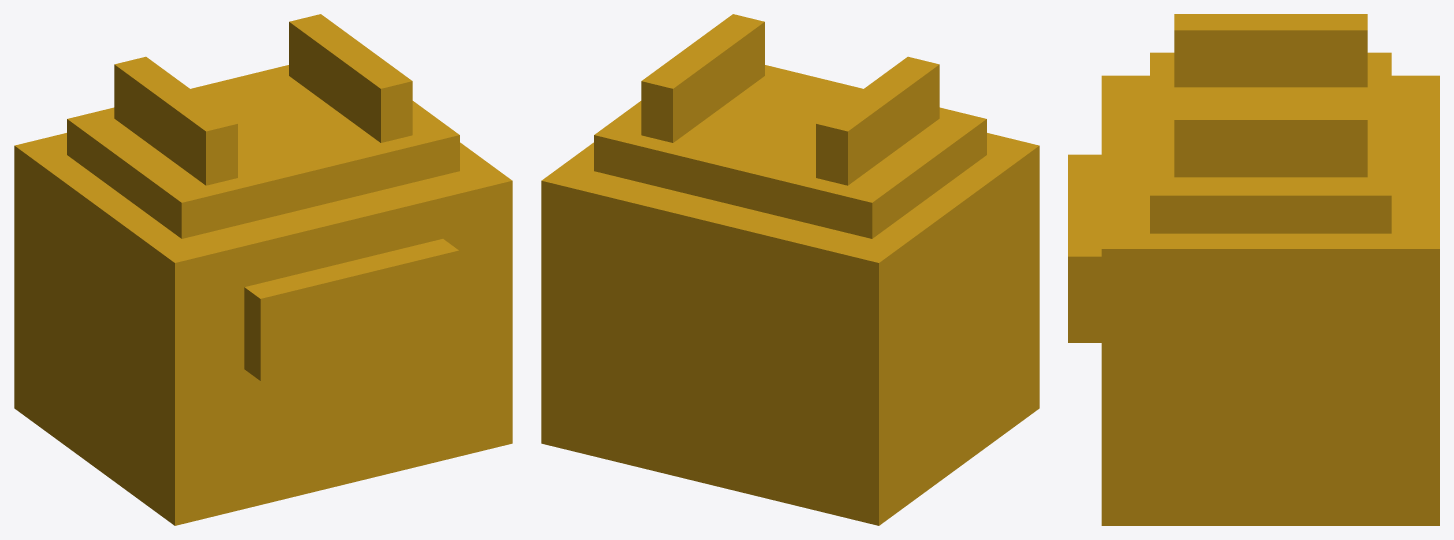
File: fryer.glb
3 renders of one model, left to right at view 1: azimuth 30°, elevation 25°; view 2: azimuth 150°, elevation 25°; view 3: azimuth 270°, elevation 25°, orthographic. The views are drawn at different scales.
Parts seen in each view (by area): view 1: module.fryer; view 2: module.fryer; view 3: module.fryer.
Part boxes in pixels (x1,y1,x2,y2): module.fryer: (14, 14, 512, 525); module.fryer: (541, 14, 1039, 525); module.fryer: (1068, 14, 1439, 525).
Size of the model in its own units: 1 by 1 by 0.9059.
